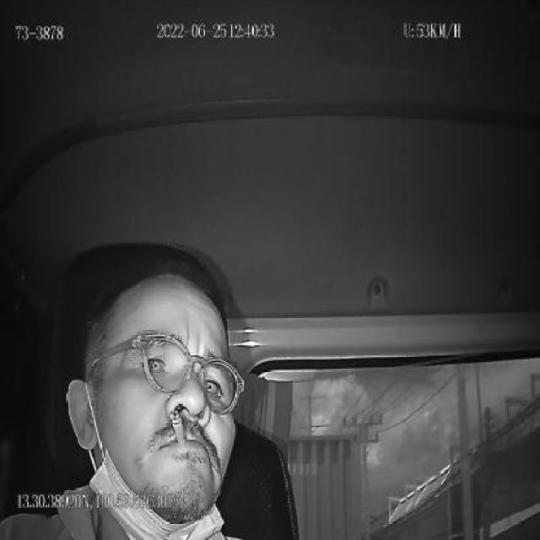smoking: (169, 410, 185, 446)
